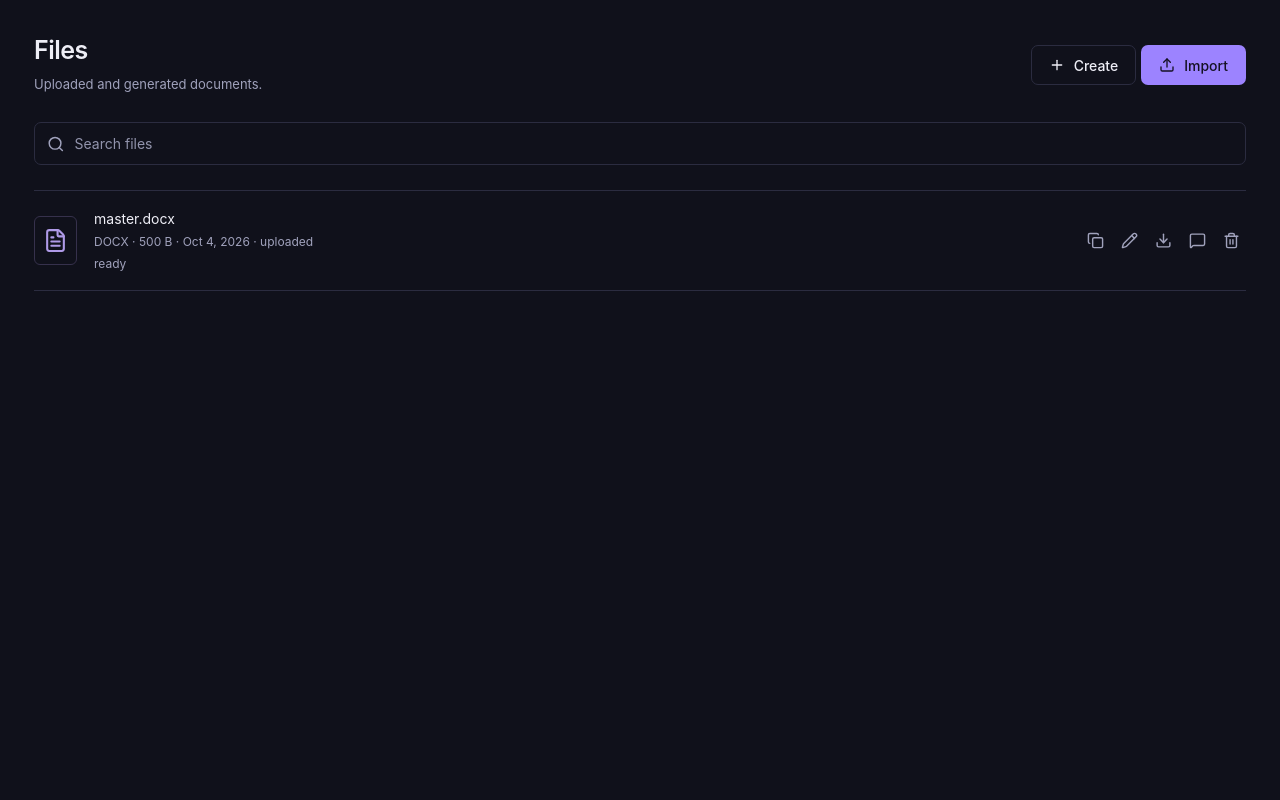
Targeted DOCX editing › creates a named library copy and keeps the master listed
Click the button named "Make a copy of master.docx".
click(1096, 241)  # box [1081, 226, 1110, 255]
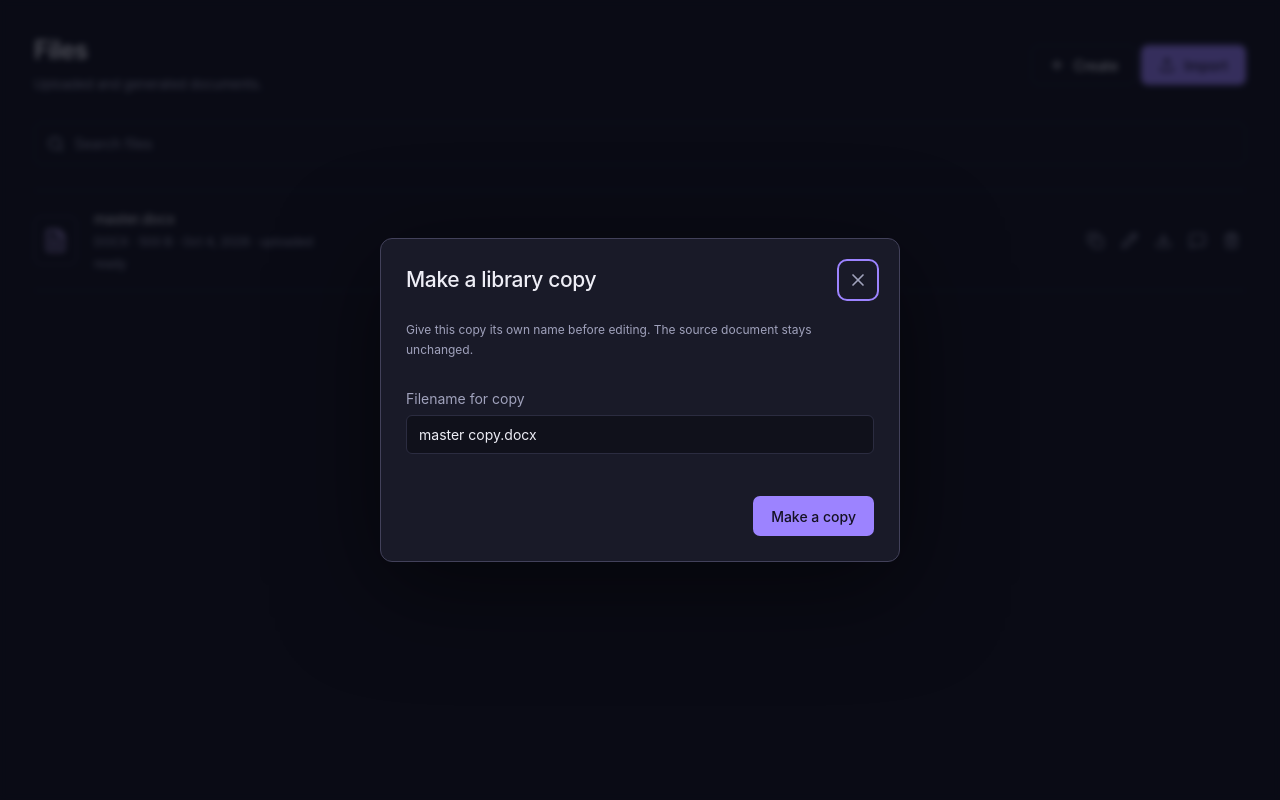
Replace the text in the field labelled "Filename for copy" with "TEST client.docx" at x=640, y=435, box [406, 415, 874, 454]
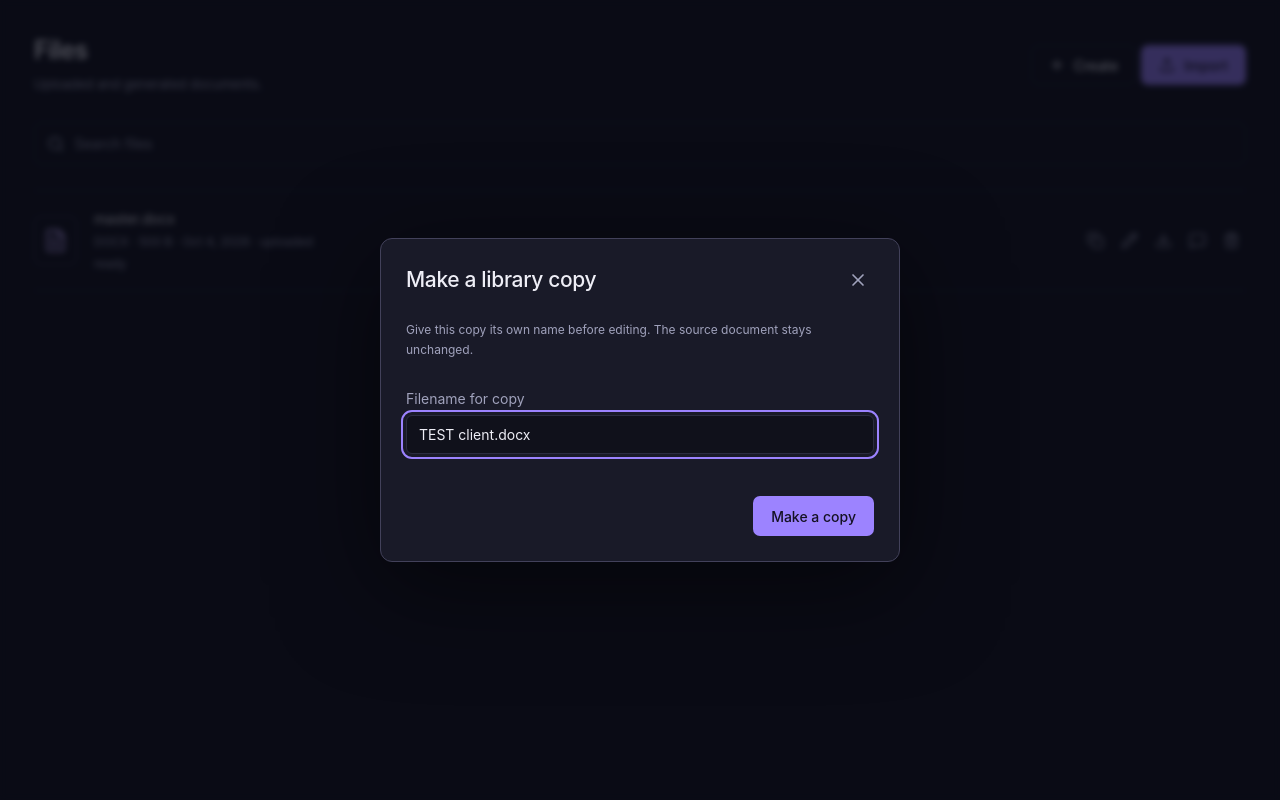
Click the button "Make a copy".
click(814, 516)  # box [753, 496, 874, 536]
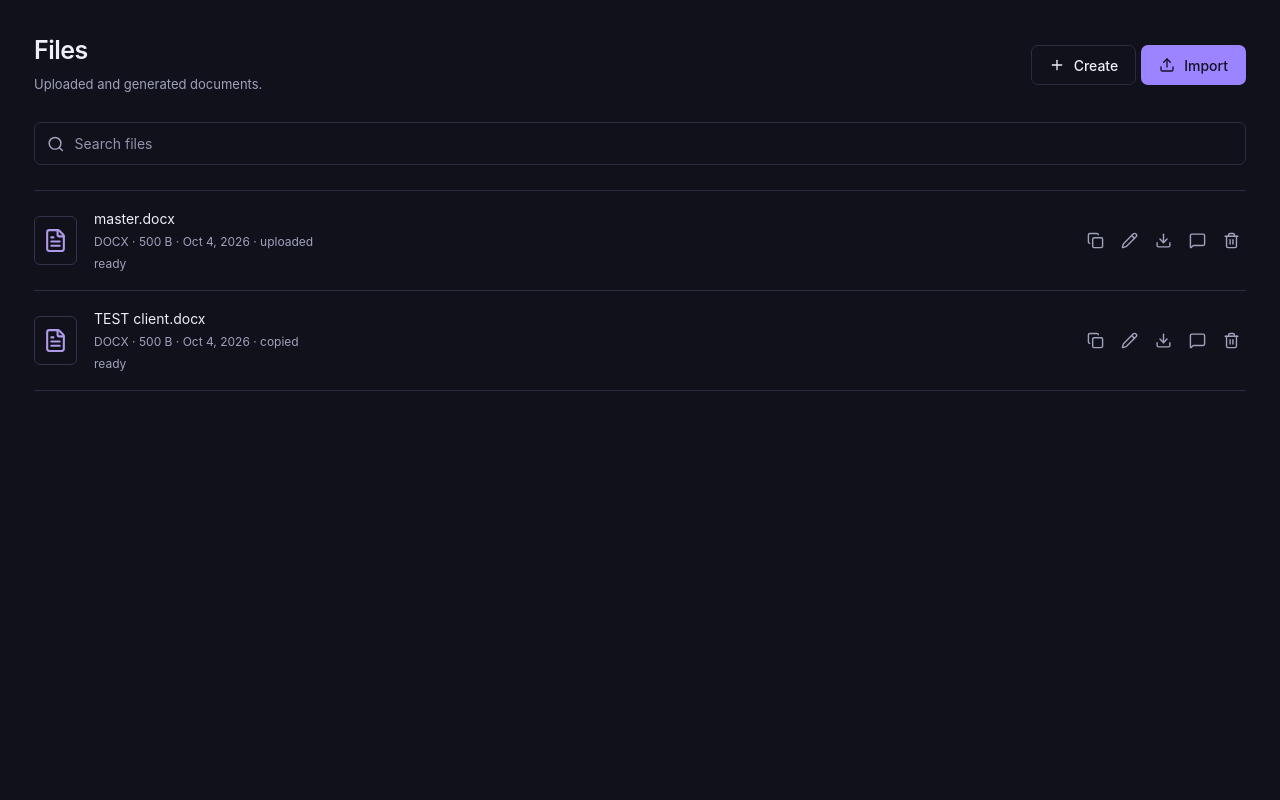
Check: the link "master.docx" is shown, box [94, 210, 175, 227]
Check: the link "TEST client.docx" is shown, box [94, 310, 206, 327]
